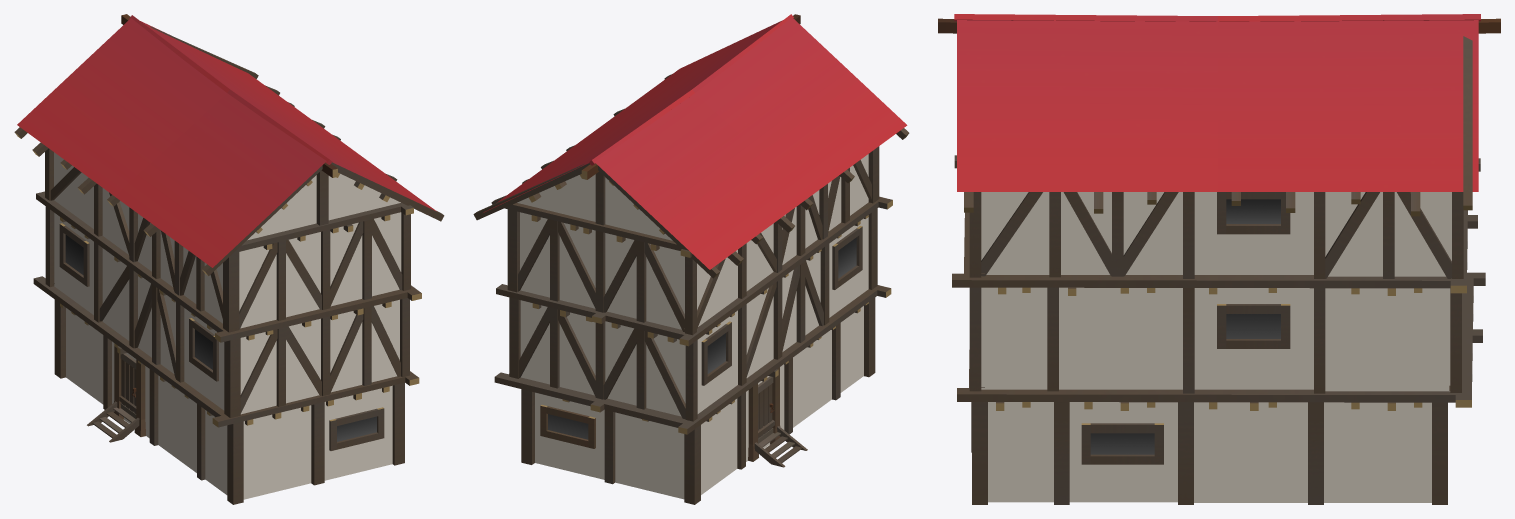
The model's file is House_17_LOD1.fbx.
3 views of the same model, side by side, from view 1: azimuth 30°, elevation 25°; view 2: azimuth 150°, elevation 25°; view 3: azimuth 270°, elevation 25° (orthographic). The views are drawn at different scales.
Visible parts, largest first — view 1: polySurface9626; view 2: polySurface9626; view 3: polySurface9626.
Part boxes in pixels (left/top/right/bottom): polySurface9626: left=14, top=14, right=444, bottom=504; polySurface9626: left=473, top=14, right=909, bottom=504; polySurface9626: left=938, top=14, right=1500, bottom=504.
Size of the model in its own units: 924 by 1167 by 1361.
